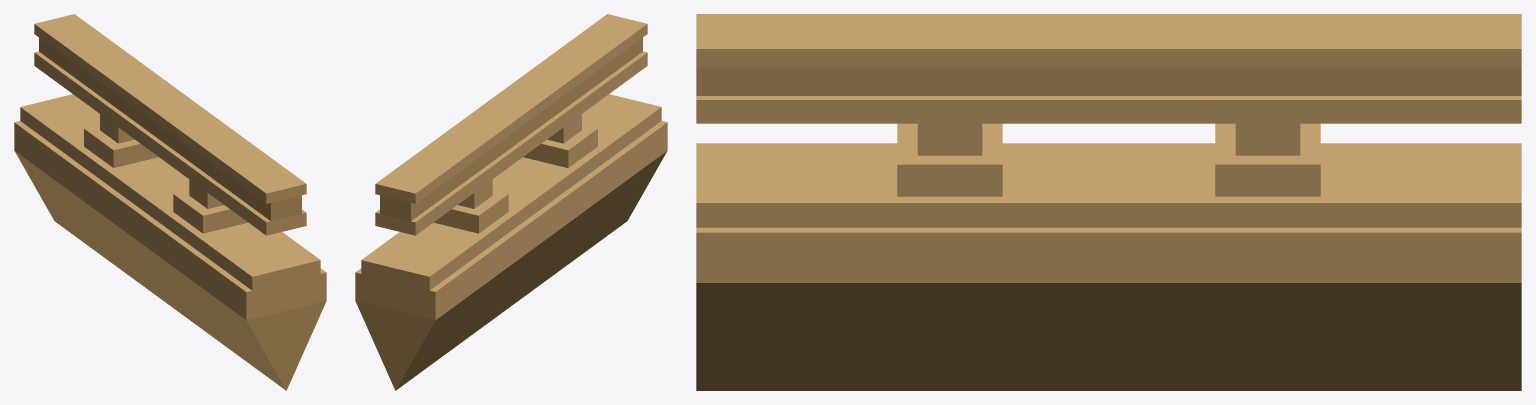
The model's file is ST_Env_Railing_02.fbx.
The picture shows the model from 3 angles, left to right: view 1: azimuth 30°, elevation 25°; view 2: azimuth 150°, elevation 25°; view 3: azimuth 270°, elevation 25°; orthographic projection. The views are drawn at different scales.
Visible parts, largest first — view 1: ST_Env_Railing_02; view 2: ST_Env_Railing_02; view 3: ST_Env_Railing_02.
Boxes of the visible parts, left/top/right/bottom form: ST_Env_Railing_02: left=14, top=14, right=326, bottom=390; ST_Env_Railing_02: left=355, top=14, right=667, bottom=390; ST_Env_Railing_02: left=696, top=14, right=1521, bottom=390.
Size of the model in its own units: 1 by 2.4 by 5.
